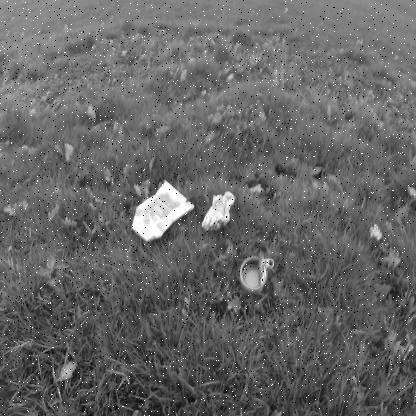cardboard: (131, 180, 195, 244)
metal: (240, 250, 274, 296), (201, 192, 235, 232)
